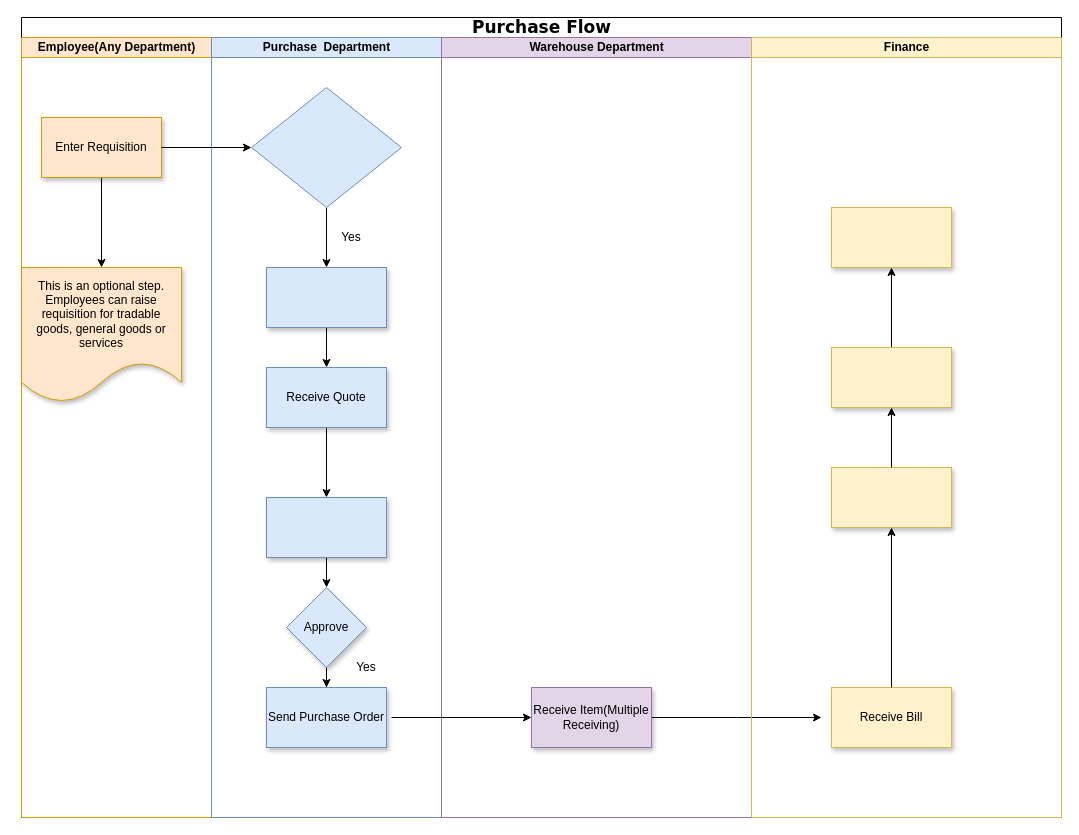
The diagram is 1079 pixels wide and 835 high, and some of its shapes have lost their labels. Each missing label, with the centre of its shape:
Approve Bill: pixel 892 378
Approved: pixel 326 147
Connect with Vendors: pixel 327 298
Enter bill against Purchase Order: pixel 892 498
Pay Bill: pixel 892 238
Raise Purchase Order: pixel 327 528
